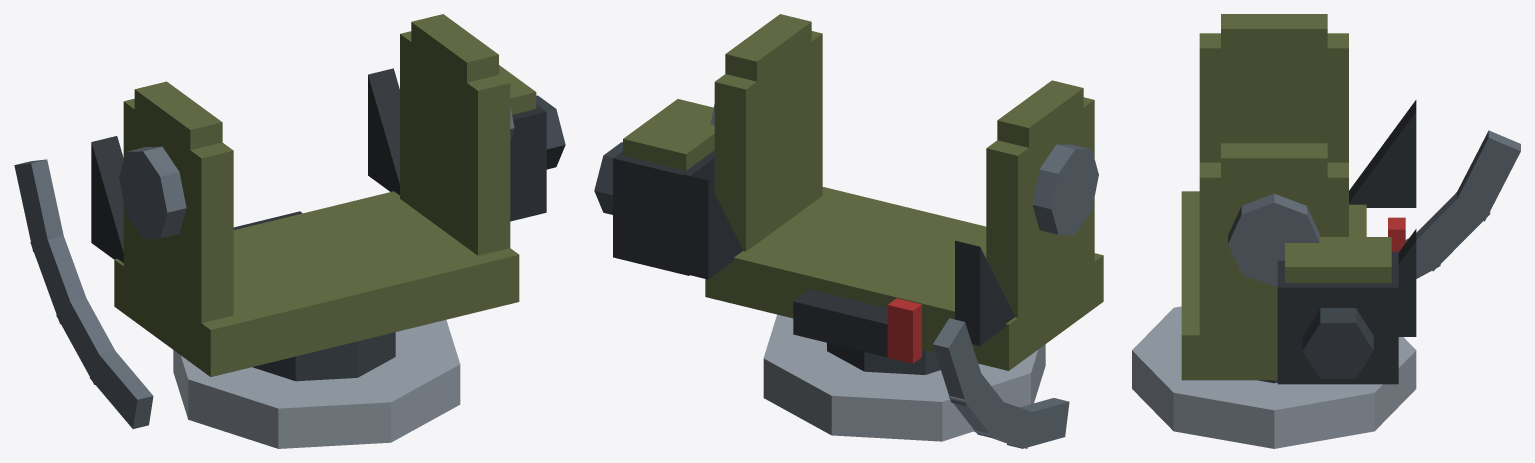
File: dep_doorman_cradle.fbx
3 views of the same model, side by side, from view 1: azimuth 30°, elevation 25°; view 2: azimuth 150°, elevation 25°; view 3: azimuth 270°, elevation 25° (orthographic). The views are drawn at different scales.
Parts seen in each view (by area): view 1: dep_doorman_cradle; view 2: dep_doorman_cradle; view 3: dep_doorman_cradle.
Part boxes in pixels (left/top/right/bottom): dep_doorman_cradle: left=14, top=14, right=565, bottom=448; dep_doorman_cradle: left=594, top=14, right=1103, bottom=448; dep_doorman_cradle: left=1132, top=14, right=1520, bottom=448.
Bounding box in the file's own units: 136 × 95.79 × 109.
